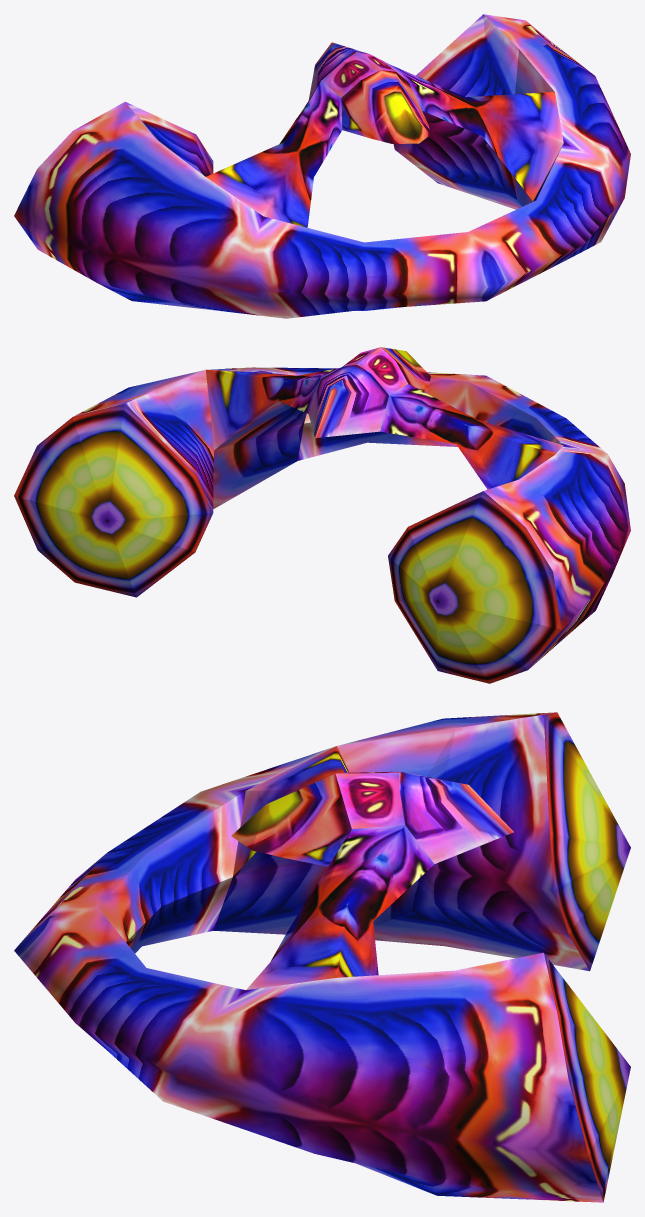
Rendered from ship-05.fbx.
3 renders of one model, top to bottom at view 1: azimuth 30°, elevation 25°; view 2: azimuth 150°, elevation 25°; view 3: azimuth 270°, elevation 25°, orthographic. The views are drawn at different scales.
Visible parts, largest first — view 1: ship-05; view 2: ship-05; view 3: ship-05.
Boxes of the visible parts, x1,y1,x2,y2 form: ship-05: (14, 14, 630, 318); ship-05: (14, 347, 630, 683); ship-05: (14, 712, 630, 1202).
Bounding box in the file's own units: 132 × 50.65 × 94.97.
